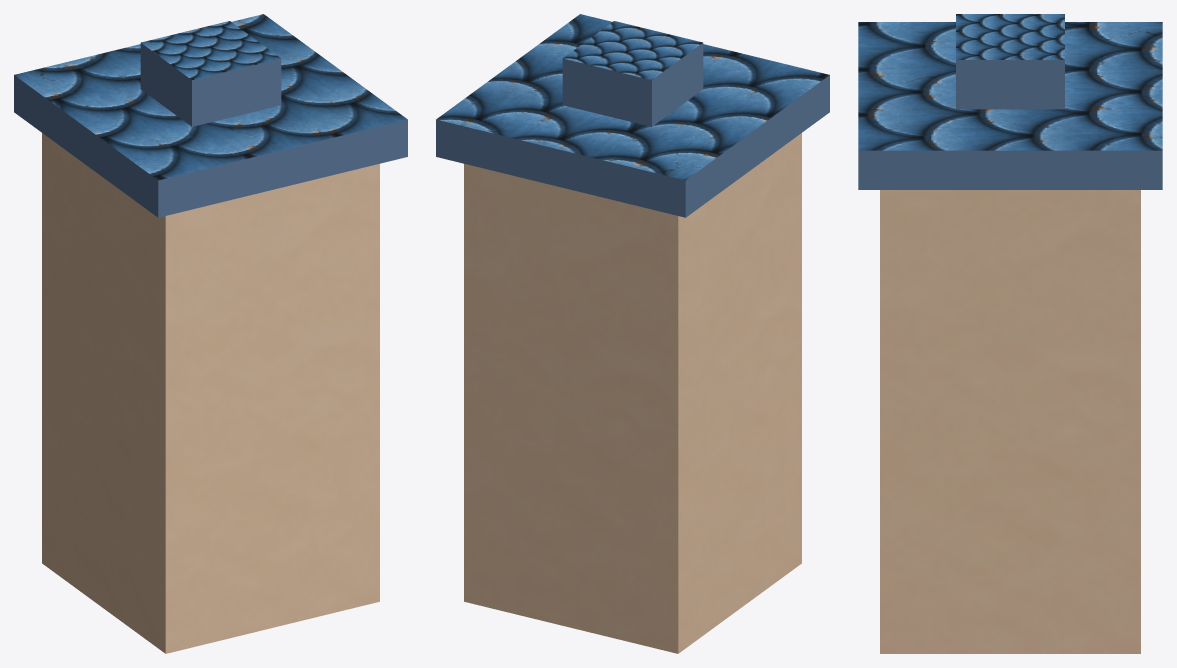
Rendered from Chimney.fbx.
3 renders of one model, left to right at view 1: azimuth 30°, elevation 25°; view 2: azimuth 150°, elevation 25°; view 3: azimuth 270°, elevation 25°, orthographic. The views are drawn at different scales.
Visible parts, largest first — view 1: Chimney; view 2: Chimney; view 3: Chimney.
Boxes of the visible parts, x1,y1,x2,y2 form: Chimney: [14, 14, 407, 653]; Chimney: [436, 14, 829, 653]; Chimney: [858, 14, 1162, 653].
Size of the model in its own units: 0.7 by 1.43 by 0.7.
1 material, 1 textured.
